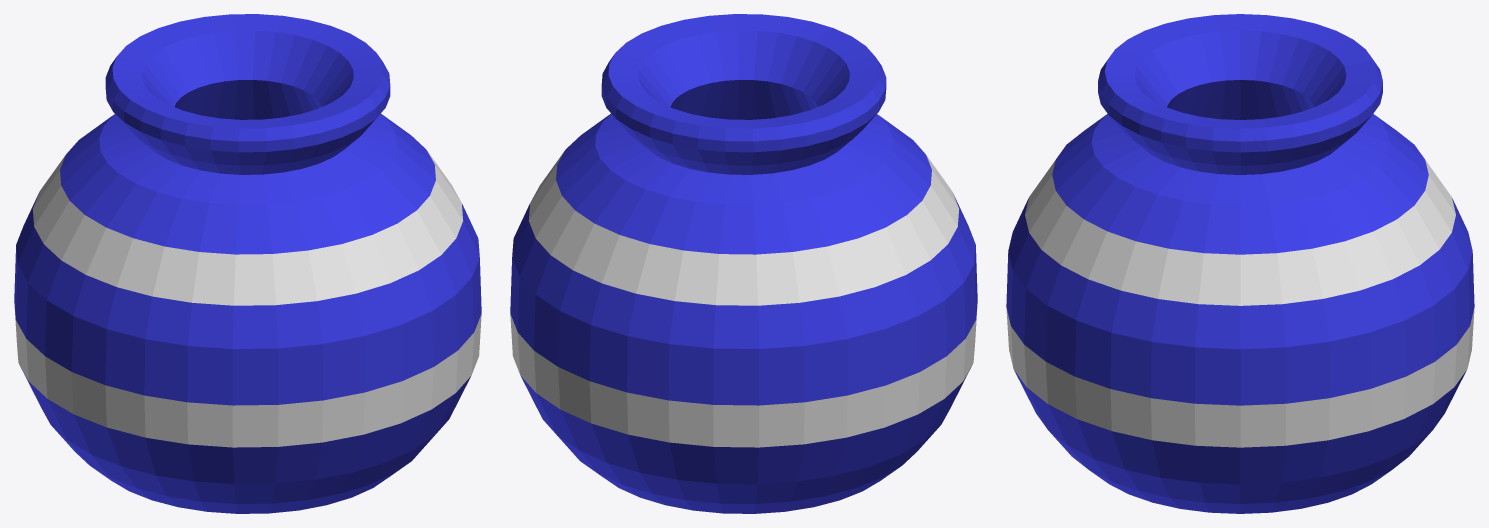
File: pot3.fbx
3 views of the same model, side by side, from view 1: azimuth 30°, elevation 25°; view 2: azimuth 150°, elevation 25°; view 3: azimuth 270°, elevation 25° (orthographic).
Visible parts, largest first — view 1: Pot3; view 2: Pot3; view 3: Pot3.
Part boxes in pixels (bbox=[...]): Pot3: bbox=[14, 14, 481, 513]; Pot3: bbox=[510, 14, 977, 513]; Pot3: bbox=[1006, 14, 1474, 513].
Size of the model in its own units: 297 by 263 by 297.
